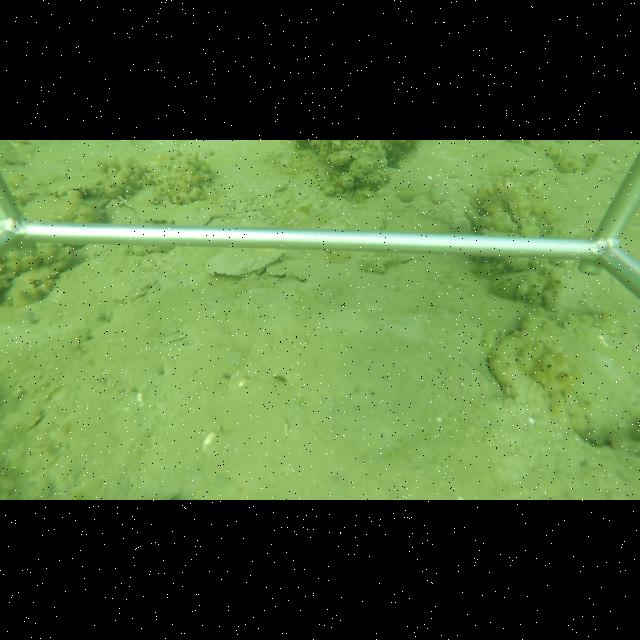Oyster-Closed: (206, 245, 286, 279), (45, 173, 107, 199), (486, 270, 532, 302), (265, 259, 313, 283)
